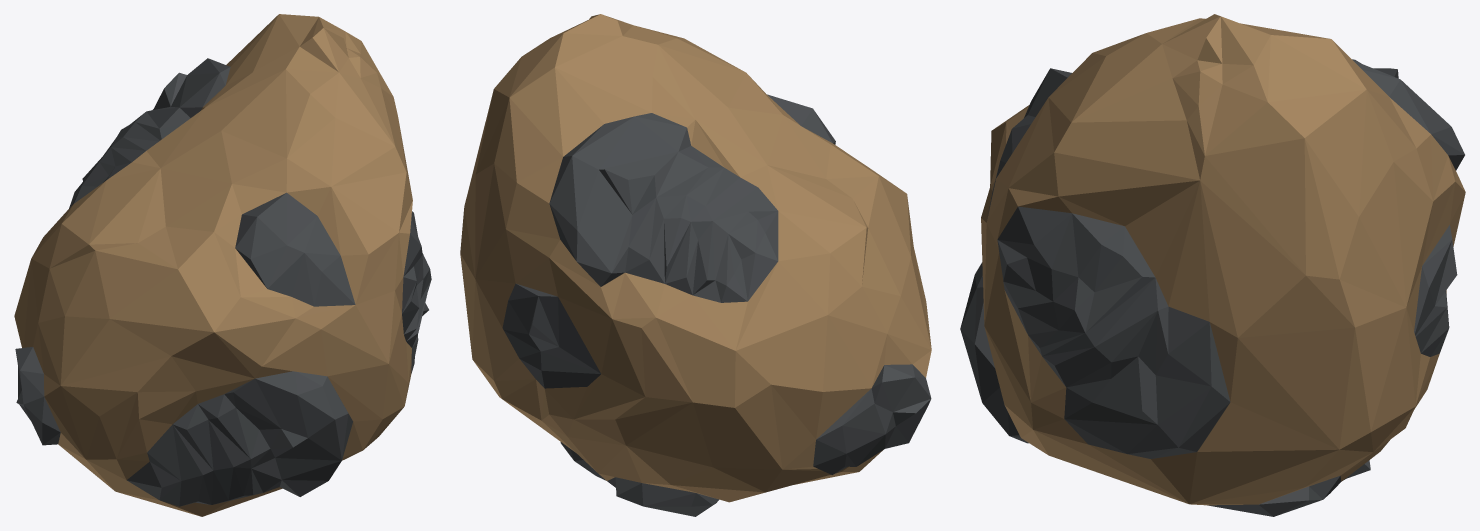
Rendered from SM_LP_FossilNode_4.fbx.
The picture shows the model from 3 angles, left to right: view 1: azimuth 30°, elevation 25°; view 2: azimuth 150°, elevation 25°; view 3: azimuth 270°, elevation 25°; orthographic projection. The views are drawn at different scales.
Visible parts, largest first — view 1: SM_LP_FossilNode_4; view 2: SM_LP_FossilNode_4; view 3: SM_LP_FossilNode_4.
Boxes of the visible parts, x1,y1,x2,y2 form: SM_LP_FossilNode_4: [14, 14, 431, 516]; SM_LP_FossilNode_4: [460, 14, 931, 516]; SM_LP_FossilNode_4: [960, 14, 1465, 516].
Size of the model in its own units: 0.8873 by 0.9128 by 0.7843.
